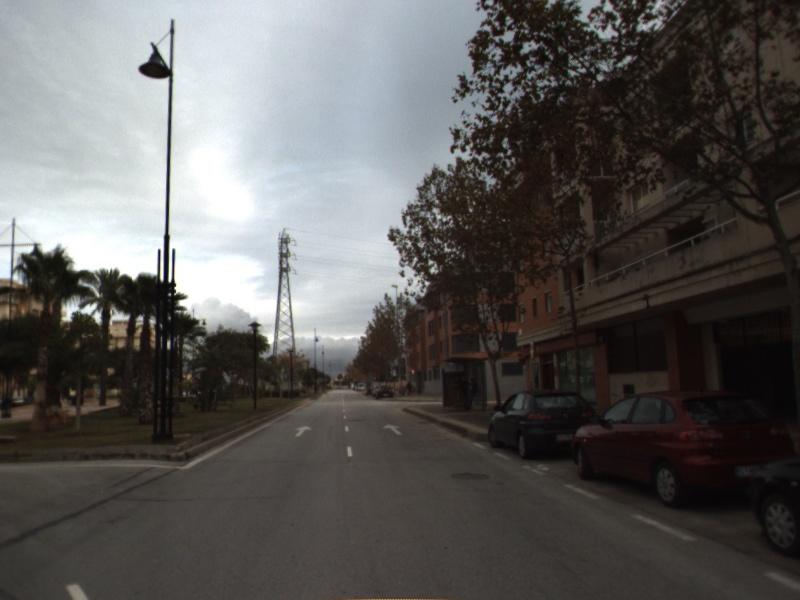STRAIGHT: (292, 423, 315, 439), (380, 422, 404, 437)
